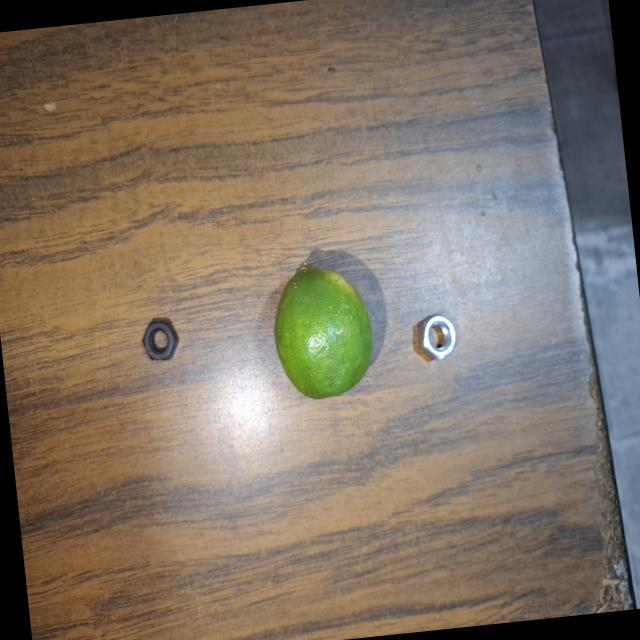limon: (265, 245, 382, 406)
milimetrico: (130, 308, 196, 370)
tuerca: (408, 294, 468, 372)
